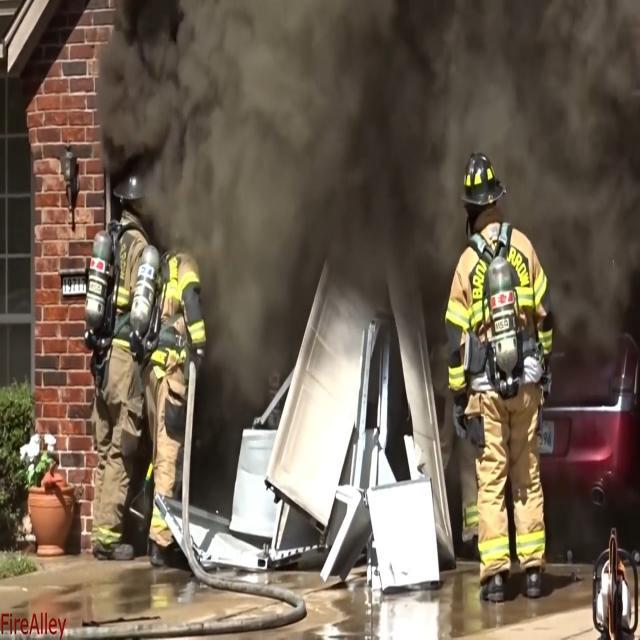Smoke: (179, 20, 389, 282), (482, 26, 626, 176)
